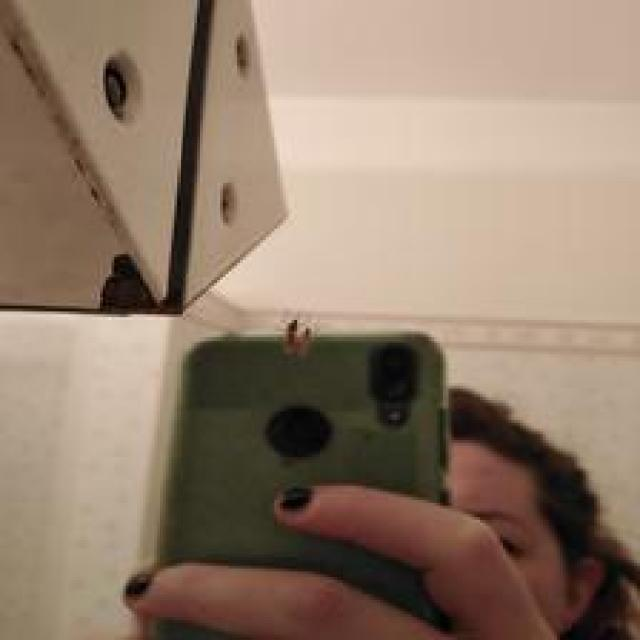Culex: (0, 0, 291, 317)
